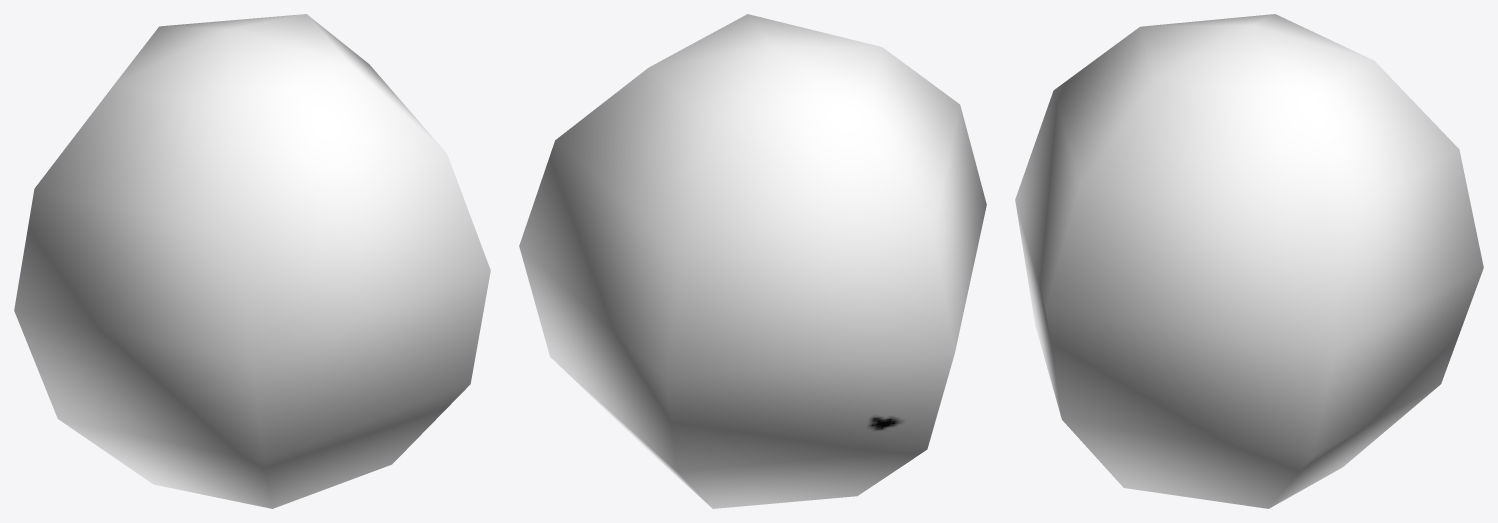
Rendered from seinecourt3.glb.
The picture shows the model from 3 angles, left to right: view 1: azimuth 30°, elevation 25°; view 2: azimuth 150°, elevation 25°; view 3: azimuth 270°, elevation 25°; orthographic projection.
Parts seen in each view (by area): view 1: sky; view 2: sky; view 3: sky.
Boxes of the visible parts, x1=… form: sky: x1=14, y1=14, x2=490, y2=508; sky: x1=519, y1=14, x2=986, y2=508; sky: x1=1015, y1=14, x2=1483, y2=508.
Bounding box in the file's own units: 698 × 735 × 686.
1292 materials, 1265 textured.
